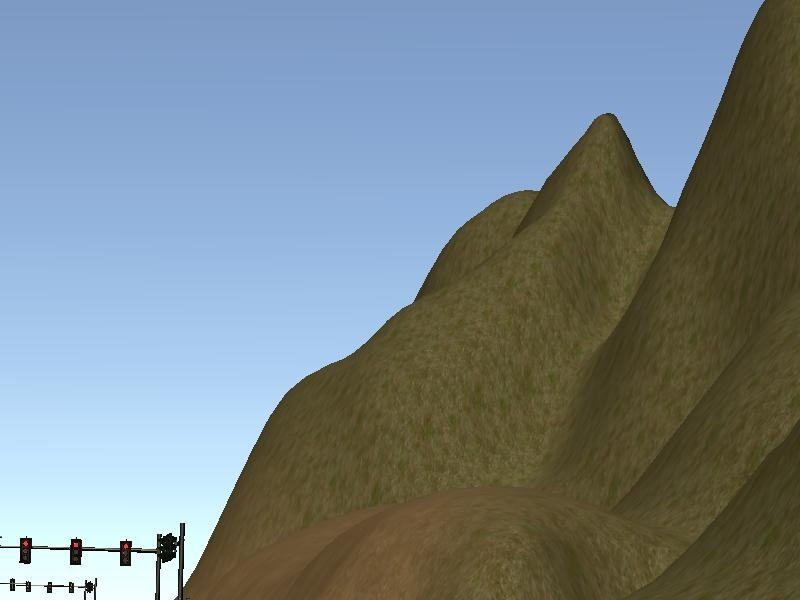red: (18, 537, 32, 565), (120, 539, 132, 568), (70, 537, 81, 566)
